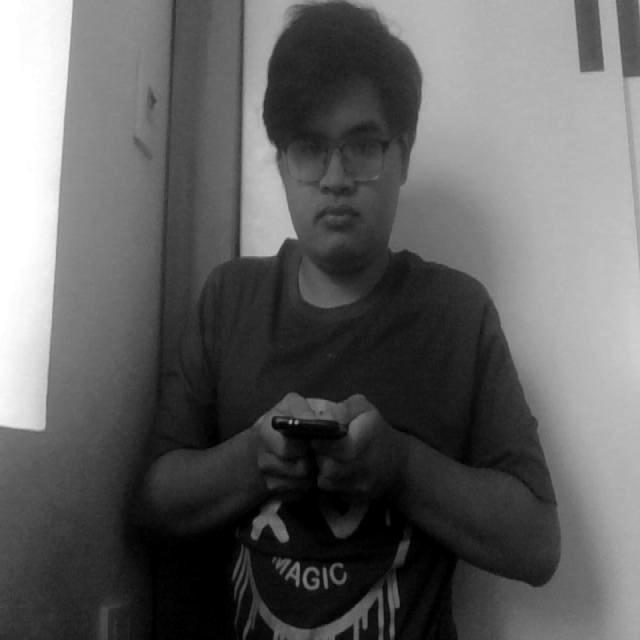phone: (264, 387, 362, 465)
